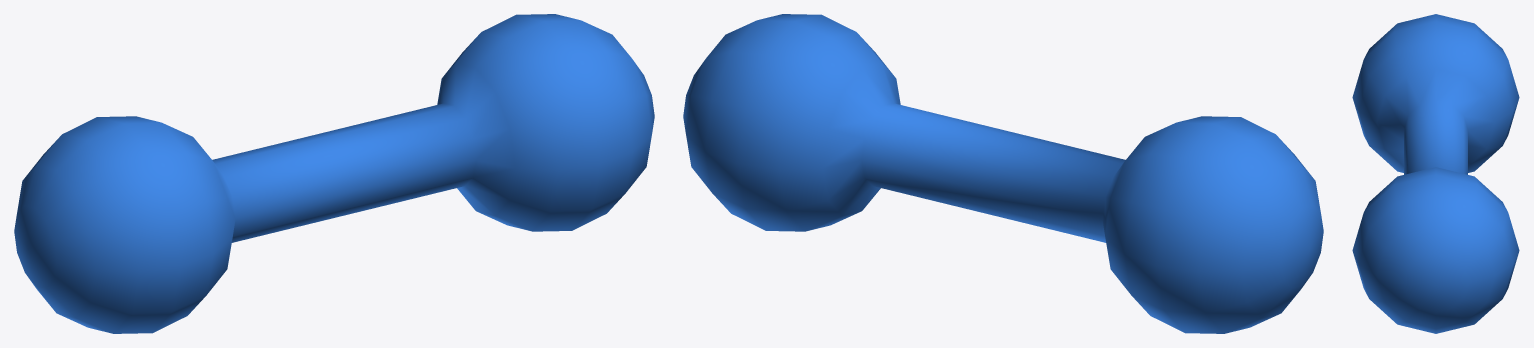
File: DumbbellModel.fbx
3 views of the same model, side by side, from view 1: azimuth 30°, elevation 25°; view 2: azimuth 150°, elevation 25°; view 3: azimuth 270°, elevation 25° (orthographic). The views are drawn at different scales.
Parts seen in each view (by area): view 1: DumbbellModel; view 2: DumbbellModel; view 3: DumbbellModel.
Part boxes in pixels (x1,y1,x2,y2): DumbbellModel: [14, 14, 654, 333]; DumbbellModel: [683, 14, 1323, 333]; DumbbellModel: [1352, 14, 1519, 333].
Size of the model in its own units: 86.04 by 27.16 by 27.16.
